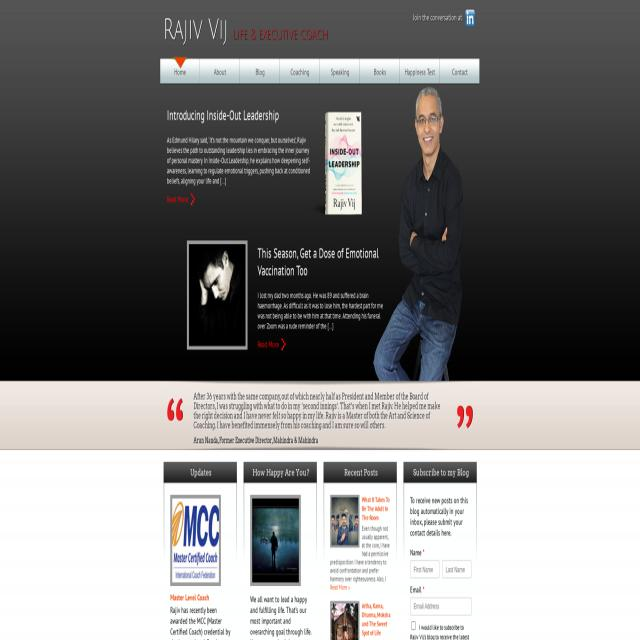button: (308, 103, 374, 222), (187, 242, 248, 352), (250, 495, 301, 586), (164, 18, 329, 46), (171, 495, 221, 586), (160, 56, 200, 84), (200, 56, 240, 84), (240, 56, 280, 84), (280, 56, 320, 84), (320, 56, 360, 84), (360, 56, 400, 84), (400, 56, 440, 84), (440, 56, 480, 84), (462, 9, 472, 27)
field: (411, 597, 472, 615), (410, 561, 440, 579), (442, 561, 472, 579), (411, 622, 416, 630)
